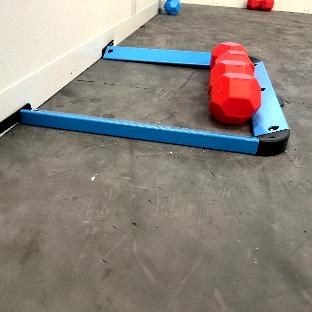V5_BLUE: (164, 0, 180, 15)
V5_RED: (208, 43, 261, 125), (247, 0, 273, 11)
